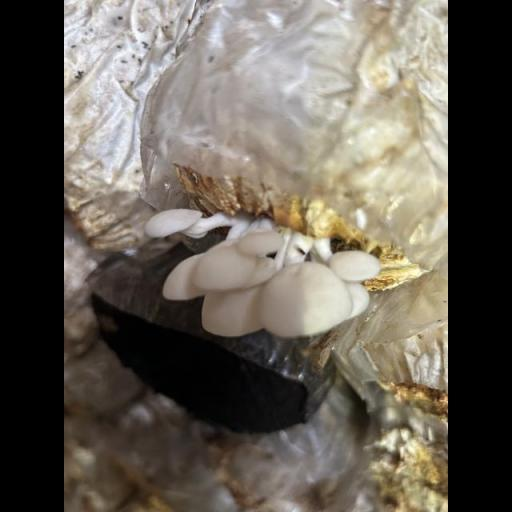White Oyster Mushroom: (148, 205, 382, 337)
